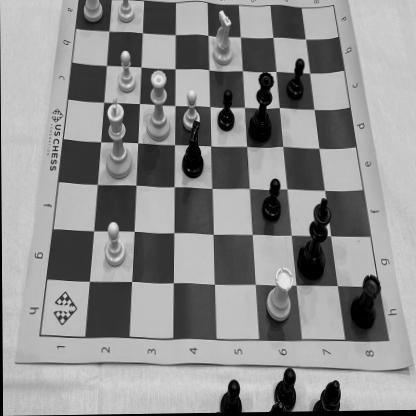black-king: (295, 196, 332, 286)
black-knight: (175, 121, 208, 180)
black-pawn: (282, 53, 306, 104), (260, 178, 282, 228), (215, 88, 237, 136)
black-queen: (245, 69, 274, 149)
black-rook: (346, 272, 382, 337)
white-king: (102, 94, 134, 184)
white-knight: (208, 8, 236, 70)
white-pawn: (178, 85, 203, 137), (102, 220, 127, 268), (114, 47, 137, 96), (114, 0, 138, 28)
white-queen: (145, 66, 170, 143)
white-rook: (264, 264, 295, 326), (80, 0, 106, 25)
